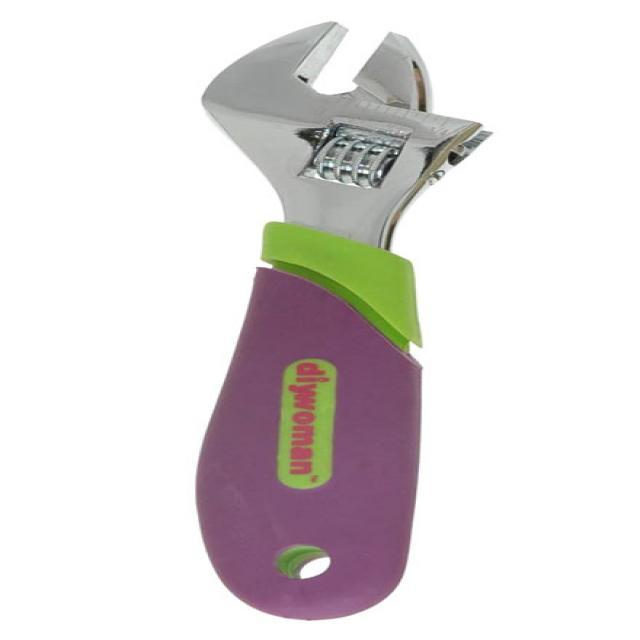wrench: (174, 14, 503, 628)
